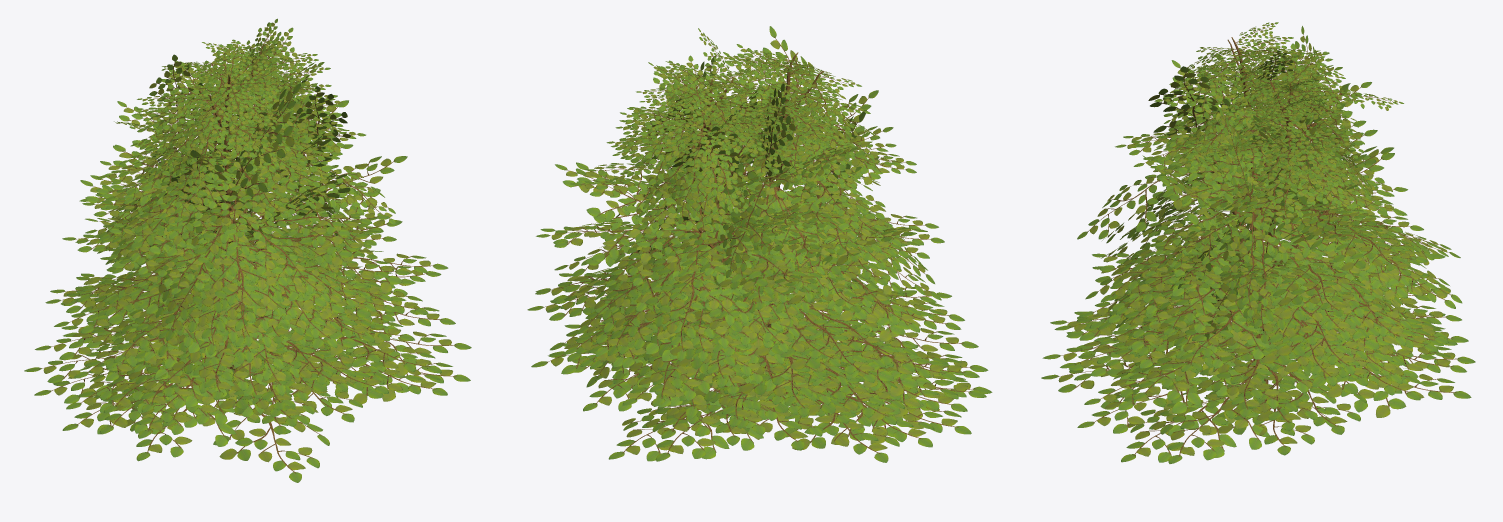
The model's file is bush_shrub_1.glb.
The picture shows the model from 3 angles, left to right: view 1: azimuth 30°, elevation 25°; view 2: azimuth 150°, elevation 25°; view 3: azimuth 270°, elevation 25°; orthographic projection. The views are drawn at different scales.
Visible parts, largest first — view 1: bush_shrub_1; view 2: bush_shrub_1; view 3: bush_shrub_1.
Boxes of the visible parts, <box> form: bush_shrub_1: <box>24,18,471,482</box>; bush_shrub_1: <box>527,26,992,462</box>; bush_shrub_1: <box>1041,22,1475,463</box>.
Bounding box in the file's own units: 1.52 × 1.35 × 1.4.
2 materials, 2 textured.
